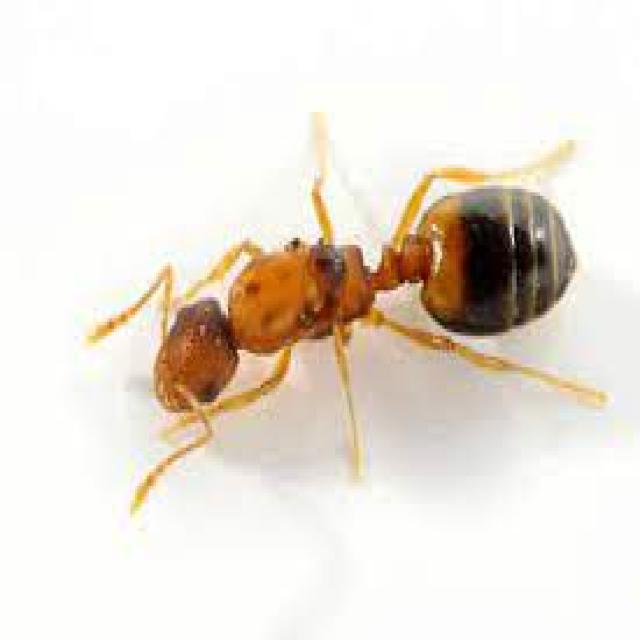ants: (83, 129, 583, 486)
